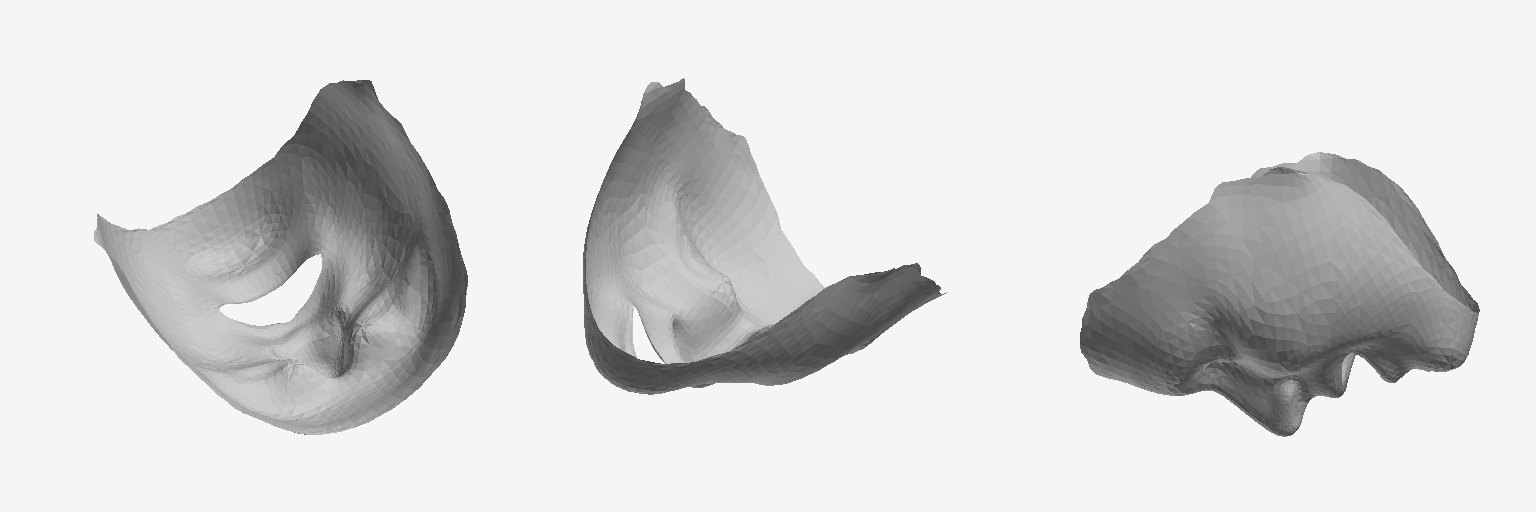
The model's file is face_gab_sfm87.obj.
3 renders of one model, left to right at view 1: azimuth 30°, elevation 25°; view 2: azimuth 150°, elevation 25°; view 3: azimuth 270°, elevation 25°, orthographic.
Bounding box in the file's own units: 166 × 163 × 203.